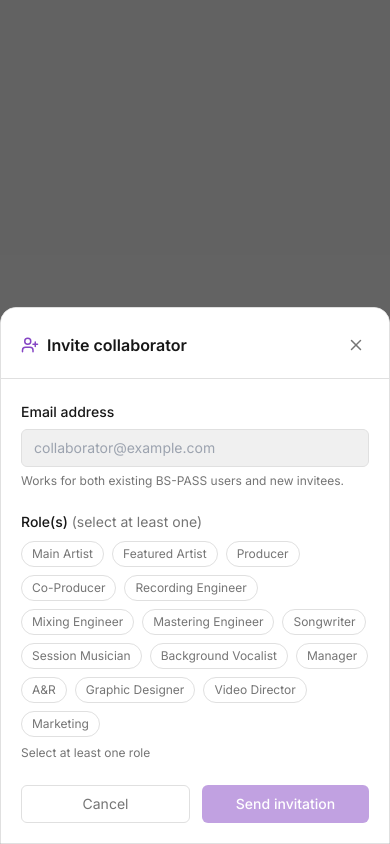
Scenario: InviteModal › deselects a role on second click
Click the button "Producer" at (263, 554), box x1=226 y1=541 x2=300 y2=567
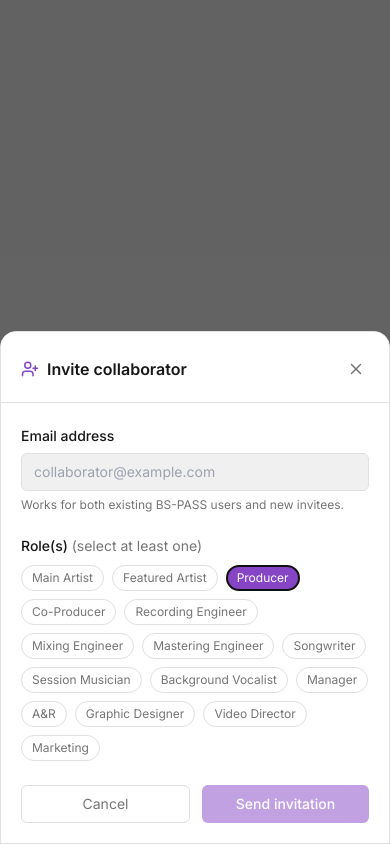
Click the button "Producer" at (263, 578), box x1=226 y1=565 x2=300 y2=591
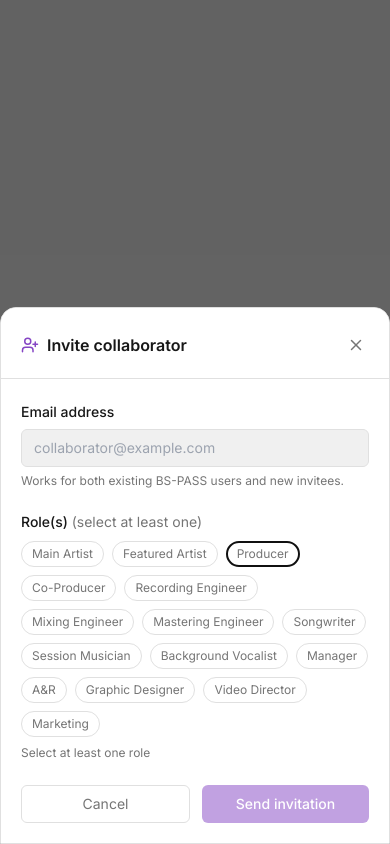
Expected: the text "Select at least one role" is shown, x1=21 y1=745 x2=150 y2=760
